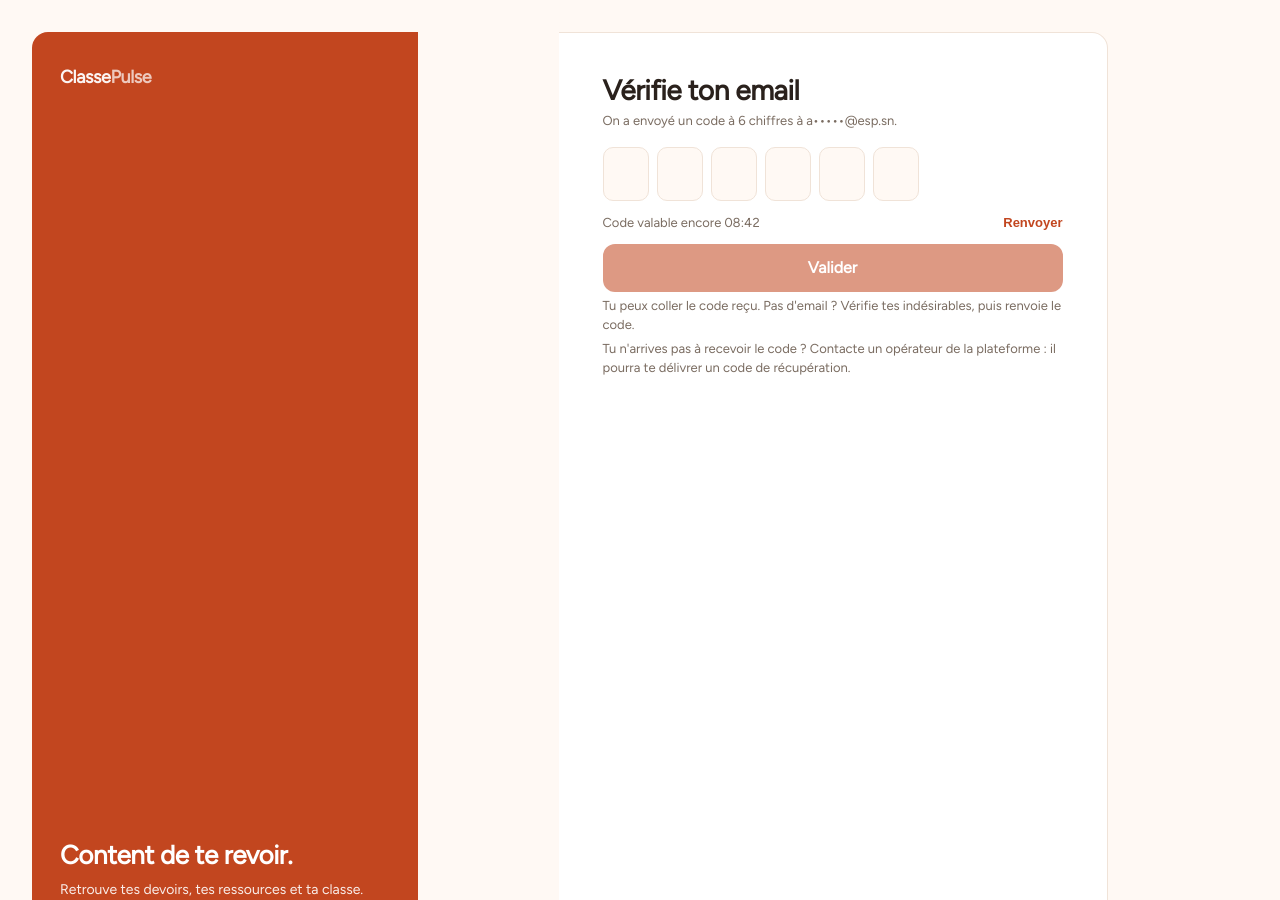
Test: code à 6 chiffres (P2, M8) › trop de renvois : le décompte reprend sur le délai du serveur
Click the button "Renvoyer": (1033, 222) top-left (1003, 214), bottom-right (1063, 230)
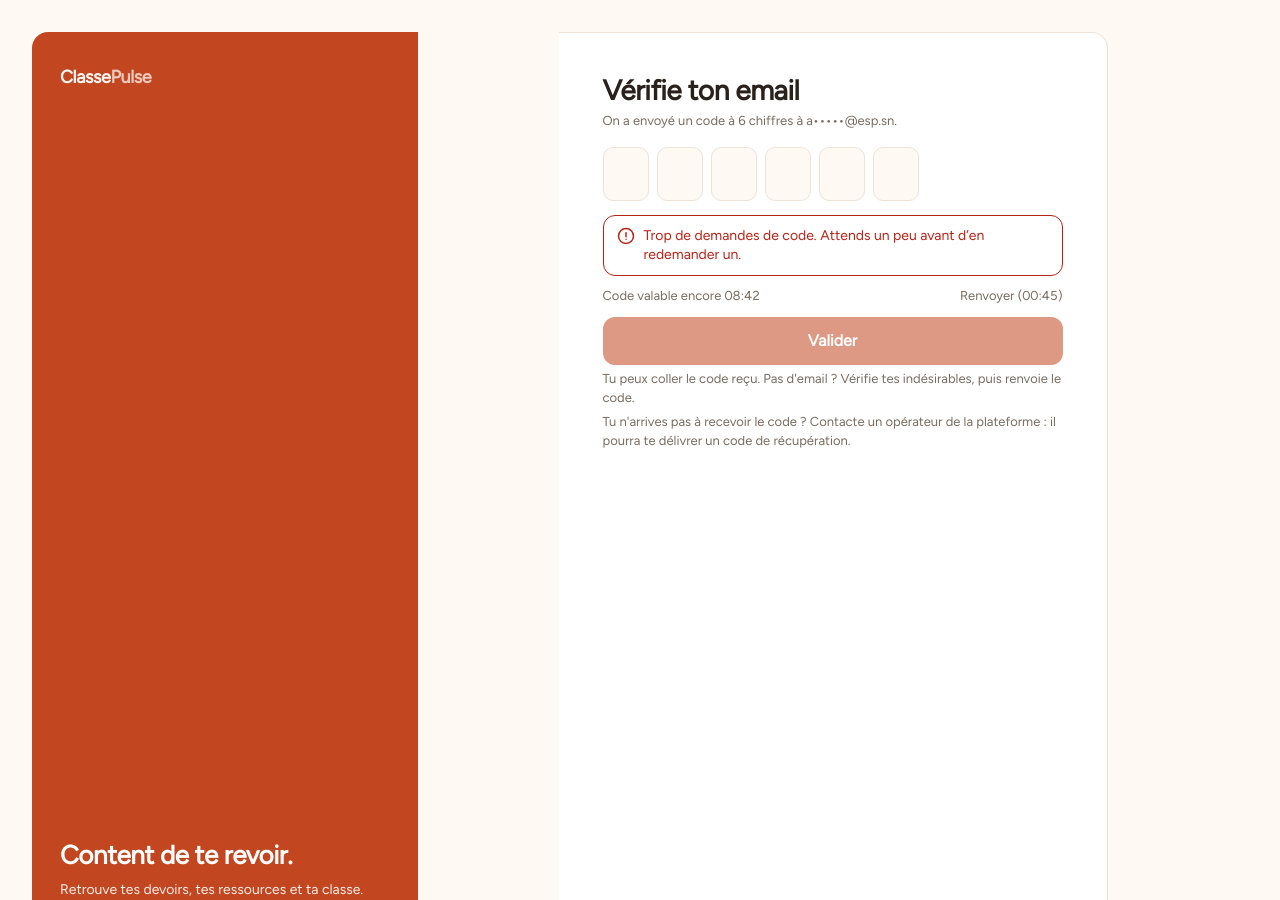
Now the message shows "Trop de demandes de code.", box top-left (644, 226), bottom-right (984, 263)
Now the text "00:45" is shown, box top-left (1022, 288), bottom-right (1058, 303)
